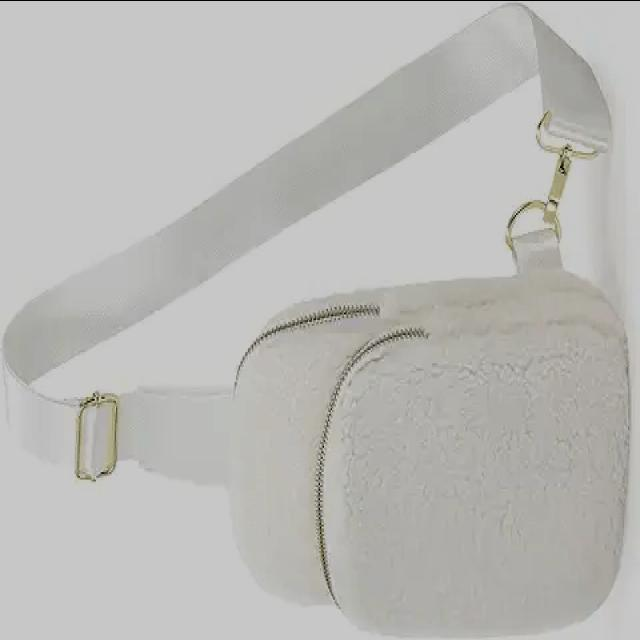backpack: (1, 3, 634, 640)
